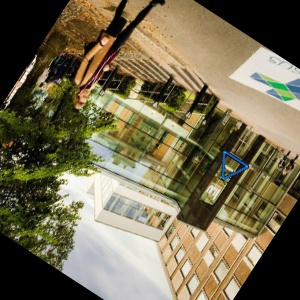triangle: (219, 148, 251, 184)
